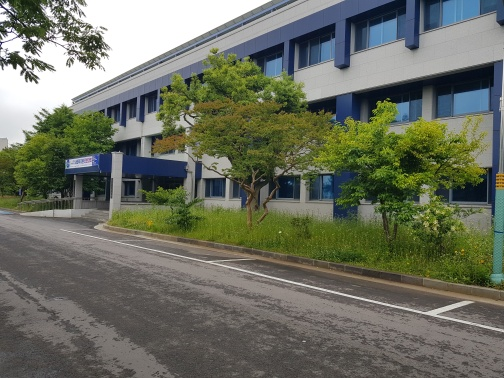College of Social Sciences: (48, 5, 500, 280), (55, 147, 204, 230)
